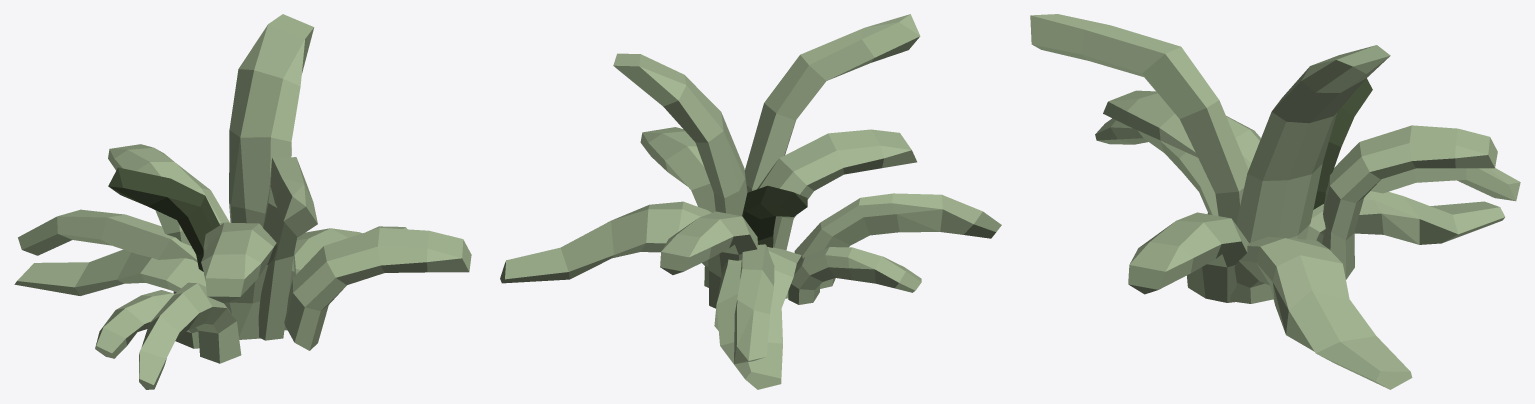
Rendered from EA_Swamp_Grass_01c.glb.
3 renders of one model, left to right at view 1: azimuth 30°, elevation 25°; view 2: azimuth 150°, elevation 25°; view 3: azimuth 270°, elevation 25°, orthographic. The views are drawn at different scales.
Parts seen in each view (by area): view 1: EA_Swamp_Grass_01c; view 2: EA_Swamp_Grass_01c; view 3: EA_Swamp_Grass_01c.
Part boxes in pixels (<box>): EA_Swamp_Grass_01c: <box>14,14,471,389</box>; EA_Swamp_Grass_01c: <box>500,14,1001,389</box>; EA_Swamp_Grass_01c: <box>1030,14,1520,389</box>.
Size of the model in its own units: 0.9828 by 0.5986 by 0.9788.
1 material, 1 textured.
